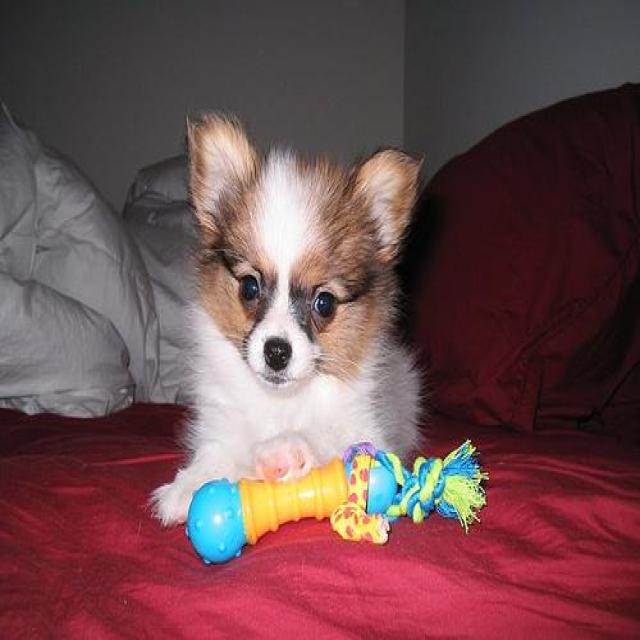papillon: (146, 108, 421, 528)
